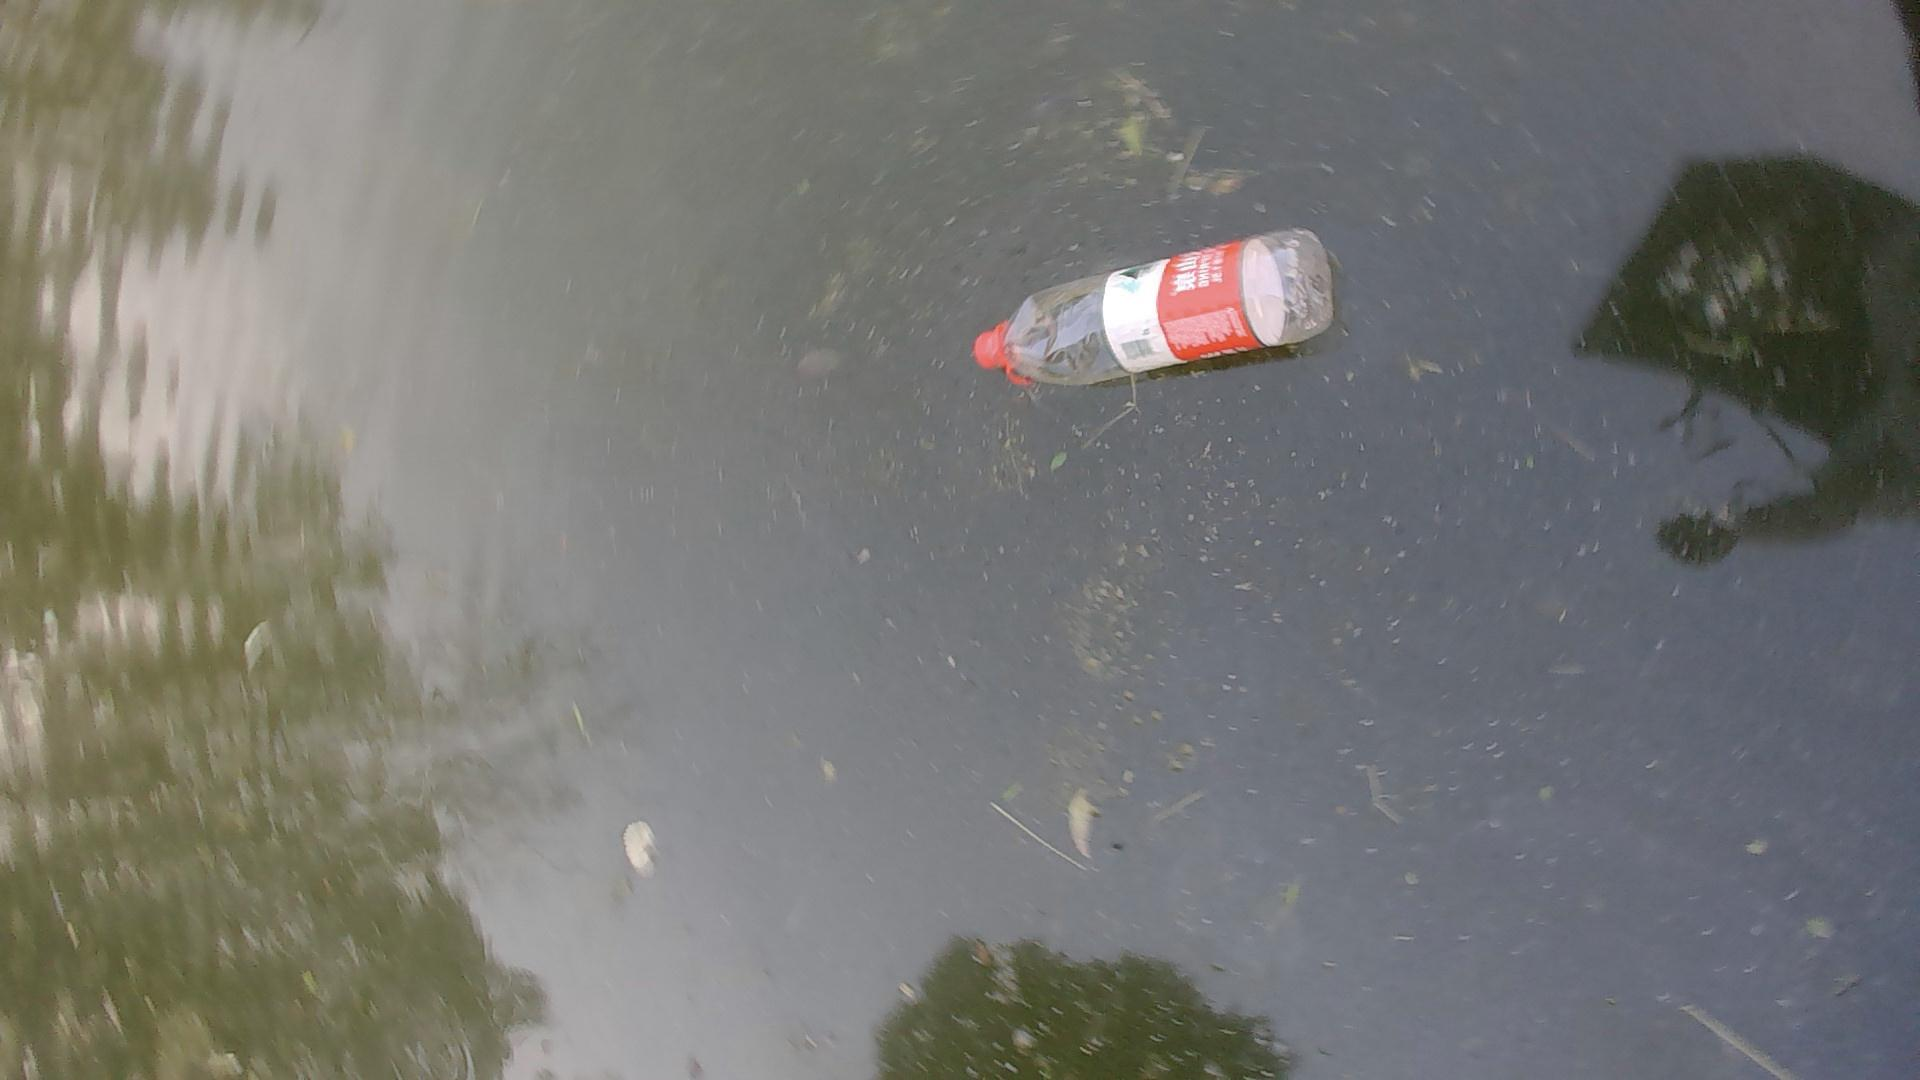Plastic: (972, 218, 1345, 392)
